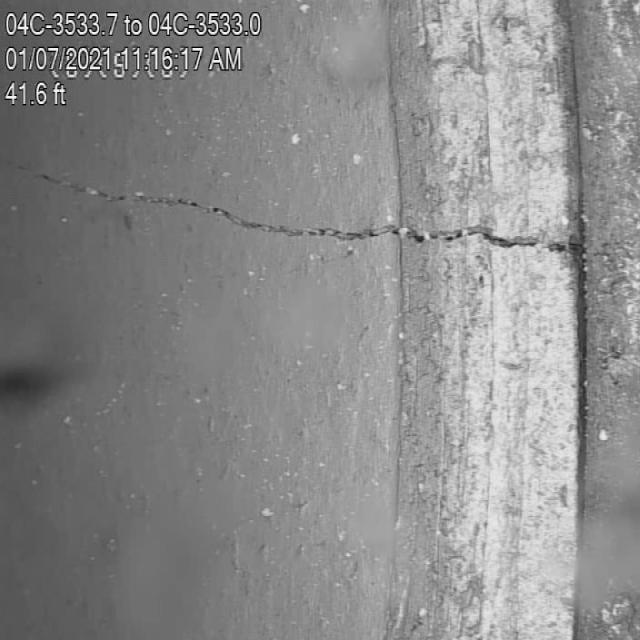Crack: (119, 150, 536, 284)
